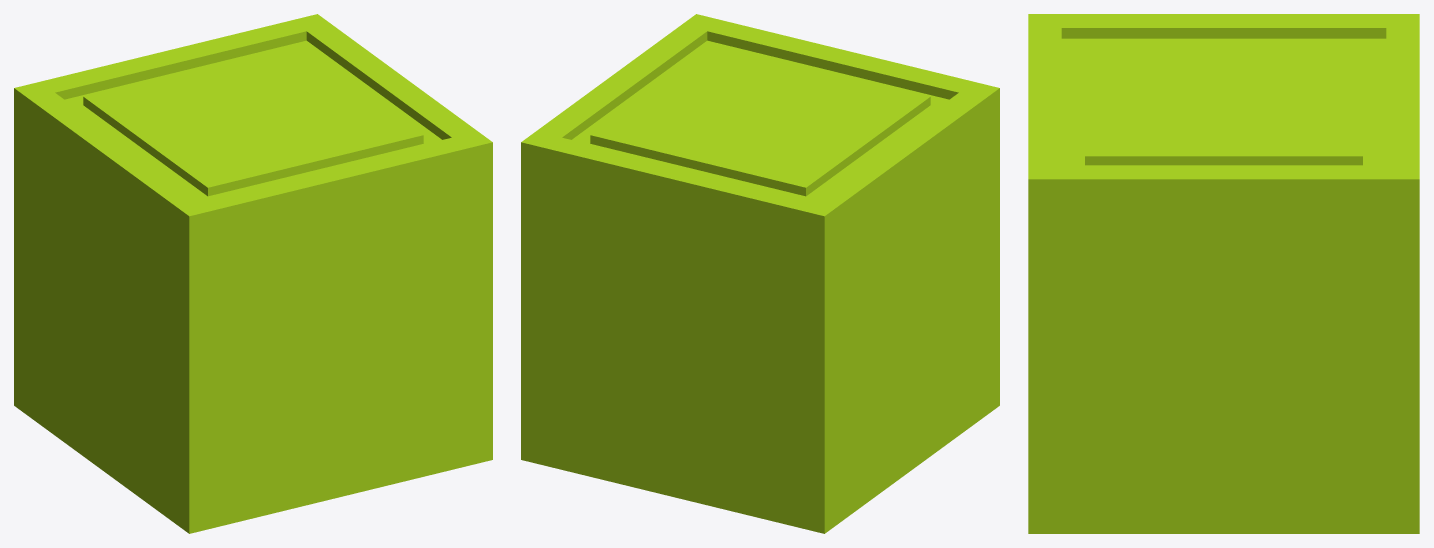
The model's file is MoveZ.fbx.
3 renders of one model, left to right at view 1: azimuth 30°, elevation 25°; view 2: azimuth 150°, elevation 25°; view 3: azimuth 270°, elevation 25°, orthographic. The views are drawn at different scales.
Parts seen in each view (by area): view 1: 立方体.001; view 2: 立方体.001; view 3: 立方体.001.
Part boxes in pixels (x1,y1,x2,y2): 立方体.001: (14,14,492,533); 立方体.001: (521,14,999,533); 立方体.001: (1028,14,1419,533).
Size of the model in its own units: 2 by 2 by 2.
1 material, 1 textured.
